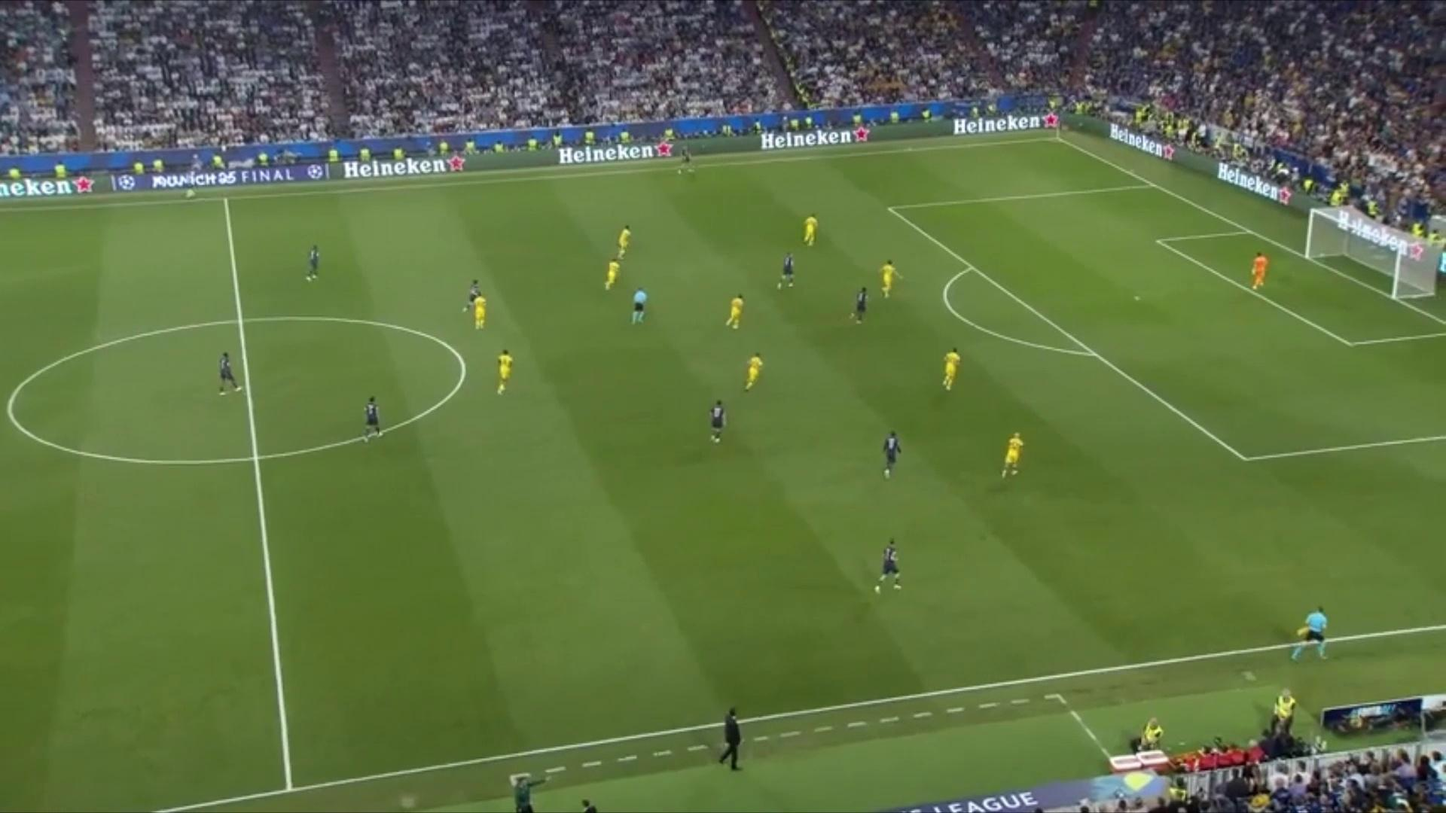player_A: (212, 346, 246, 400), (876, 542, 910, 594), (300, 239, 333, 288), (876, 427, 906, 475), (359, 394, 387, 442), (846, 282, 873, 331), (776, 250, 804, 292), (675, 143, 700, 182), (708, 399, 726, 443), (465, 268, 480, 320)
player_B: (720, 290, 755, 337), (933, 342, 964, 393), (738, 350, 770, 394), (1003, 430, 1031, 478), (872, 257, 901, 299), (492, 345, 515, 394), (794, 210, 820, 253), (609, 219, 636, 260), (599, 259, 624, 297), (473, 292, 493, 332)
player_B_goal_keeper: (1241, 250, 1272, 292)
referee: (1293, 600, 1335, 656), (506, 767, 550, 810), (627, 287, 653, 323), (175, 167, 197, 201)
